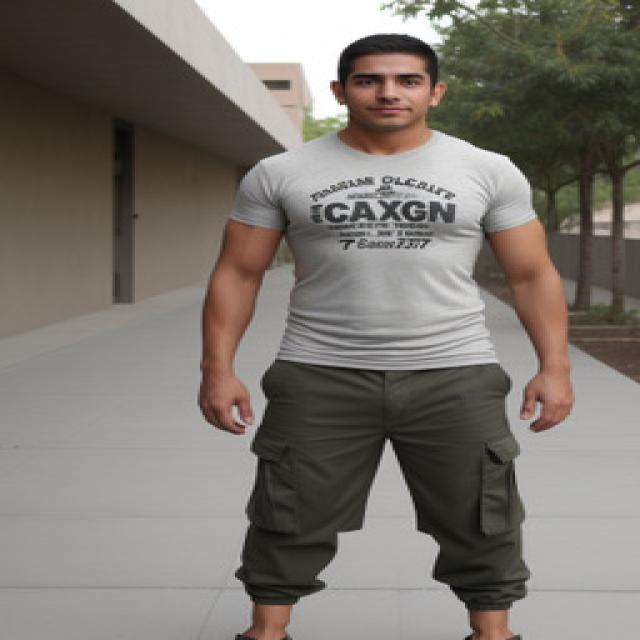Ai human 2: (177, 27, 587, 640)
